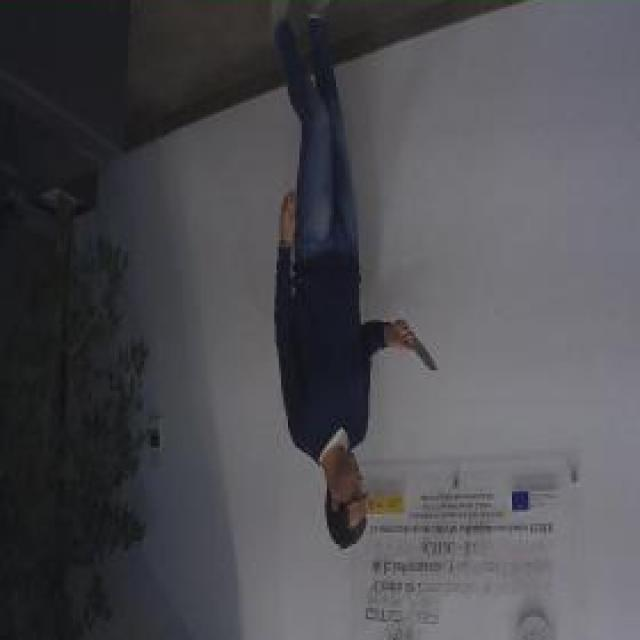knife: (398, 324, 440, 375)
